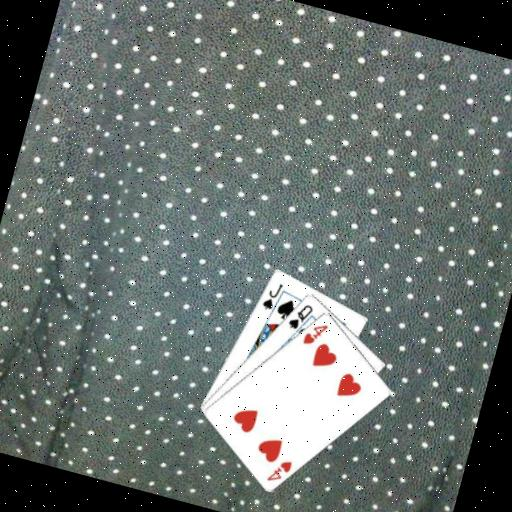4H: (263, 452, 295, 487), (298, 316, 330, 350)
JS: (258, 277, 285, 313)
QS: (283, 297, 315, 334)
